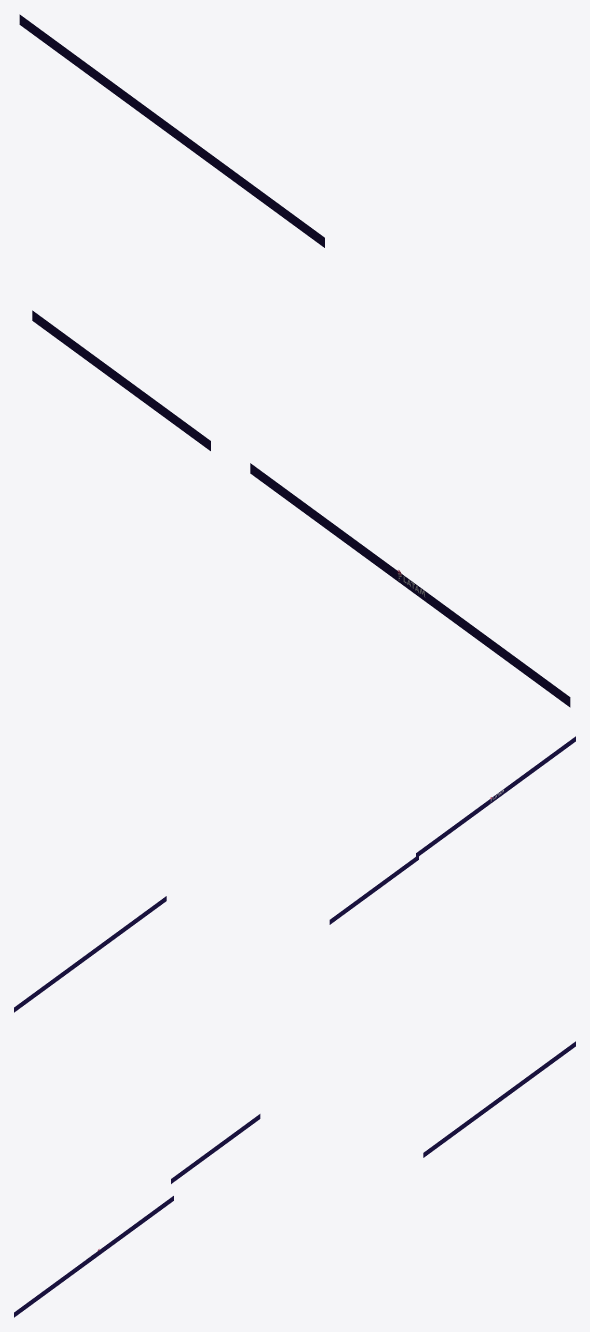
Rendered from sdsc_mro_fachada.glb.
3 renders of one model, top to bottom at view 1: azimuth 30°, elevation 25°; view 2: azimuth 150°, elevation 25°; view 3: azimuth 330°, elevation 25°, orthographic. The views are drawn at different scales.
Parts seen in each view (by area): view 1: sdsc_mro_fachada; view 2: sdsc_mro_fachada; view 3: sdsc_mro_fachada.
Boxes of the visible parts, <box> form: sdsc_mro_fachada: <box>19,14,570,707</box>; sdsc_mro_fachada: <box>14,736,575,1012</box>; sdsc_mro_fachada: <box>14,1041,575,1317</box>.
Bounding box in the file's own units: 96 × 7.61 × 450.
